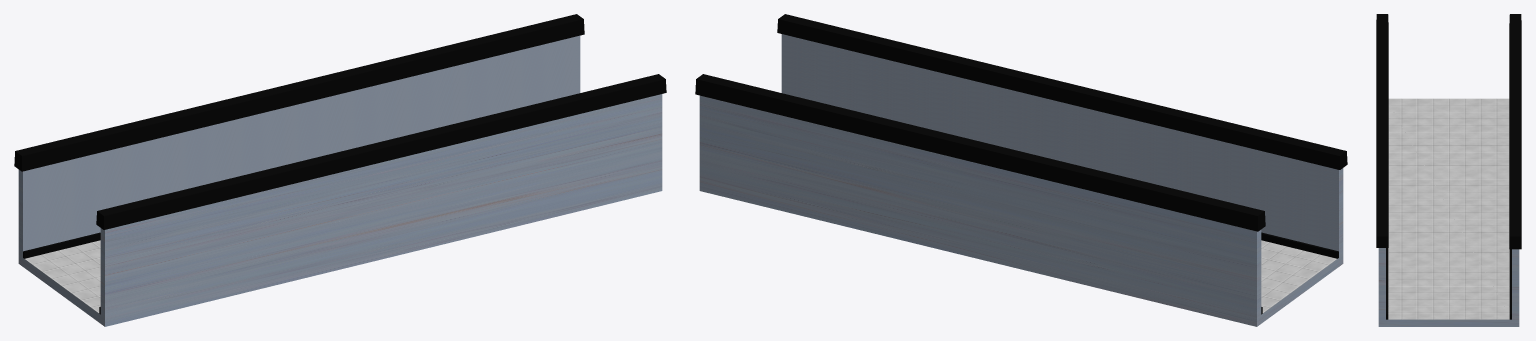
Rendered from Level basic .fbx.
3 renders of one model, left to right at view 1: azimuth 30°, elevation 25°; view 2: azimuth 150°, elevation 25°; view 3: azimuth 270°, elevation 25°, orthographic. The views are drawn at different scales.
Parts seen in each view (by area): view 1: Cube.001; view 2: Cube.001; view 3: Cube.001.
Boxes of the visible parts, left/top/right/bottom form: Cube.001: left=14, top=14, right=666, bottom=326; Cube.001: left=695, top=14, right=1347, bottom=326; Cube.001: left=1376, top=14, right=1521, bottom=326.
Size of the model in its own units: 1632 by 1129 by 5922.
3 materials, 2 textured.
